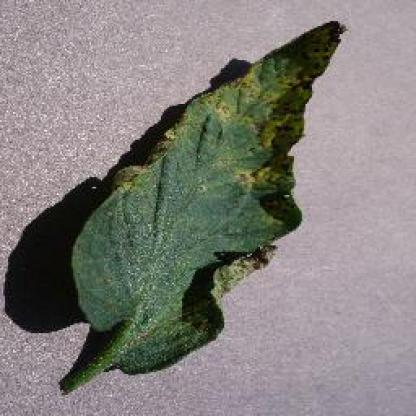bad leaf: (21, 45, 351, 386)
